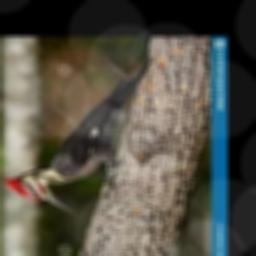Woodpecker: (6, 59, 150, 215)
